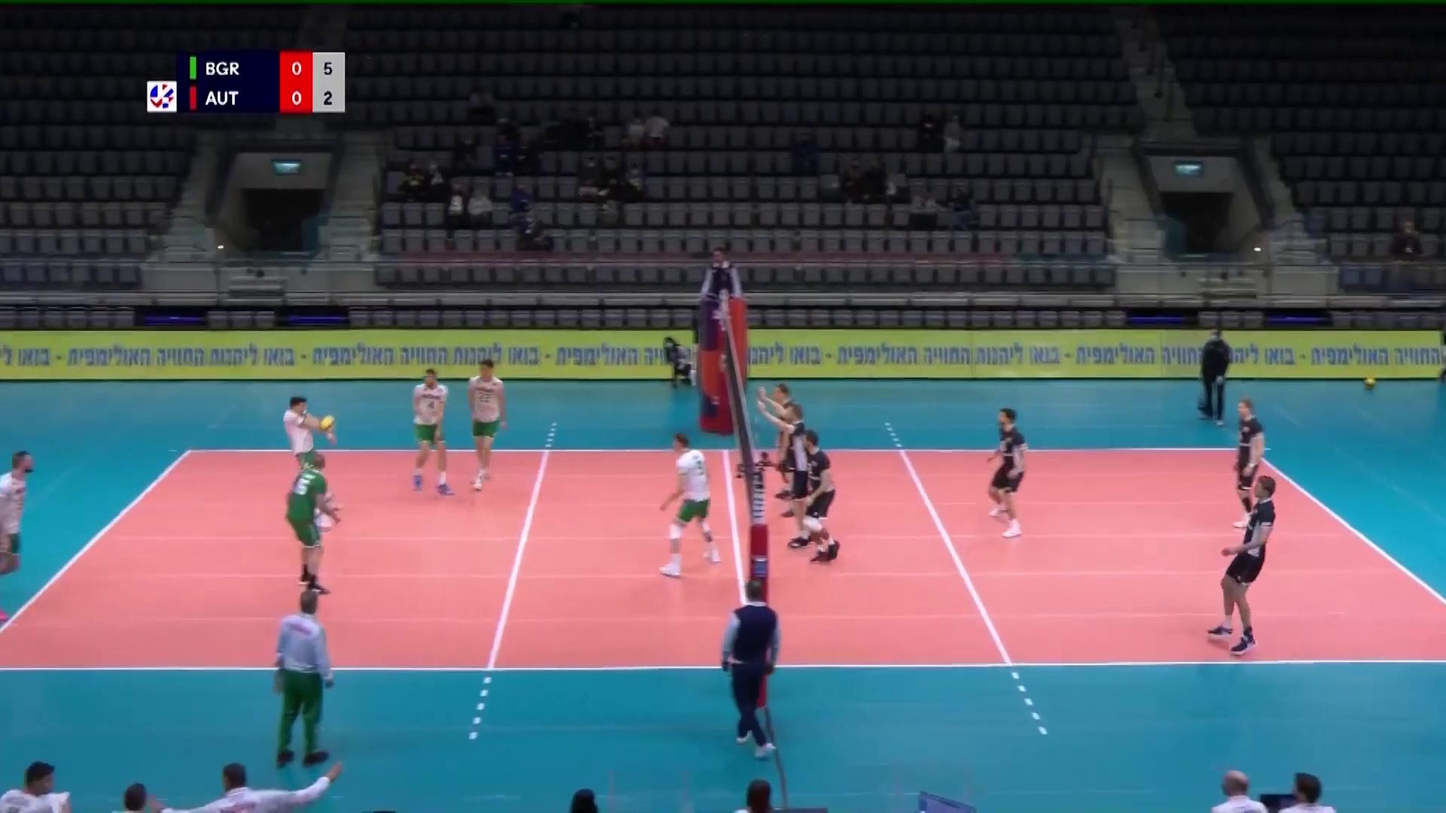ball: (320, 414, 337, 431)
